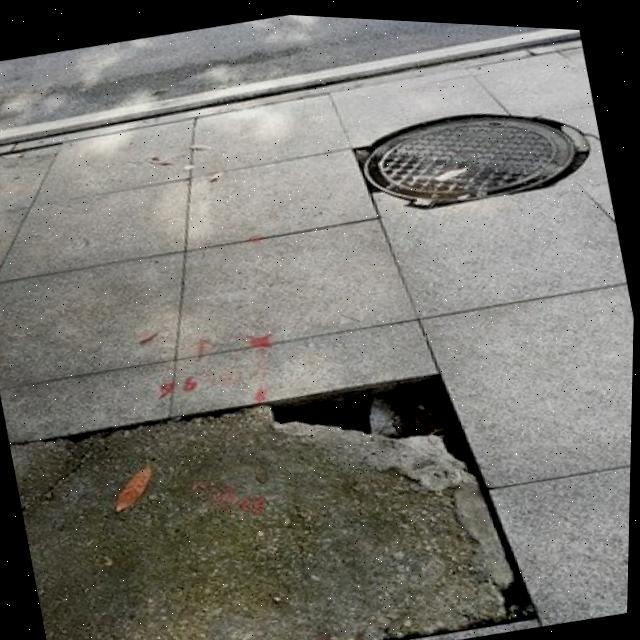manhole: (343, 72, 597, 225)
